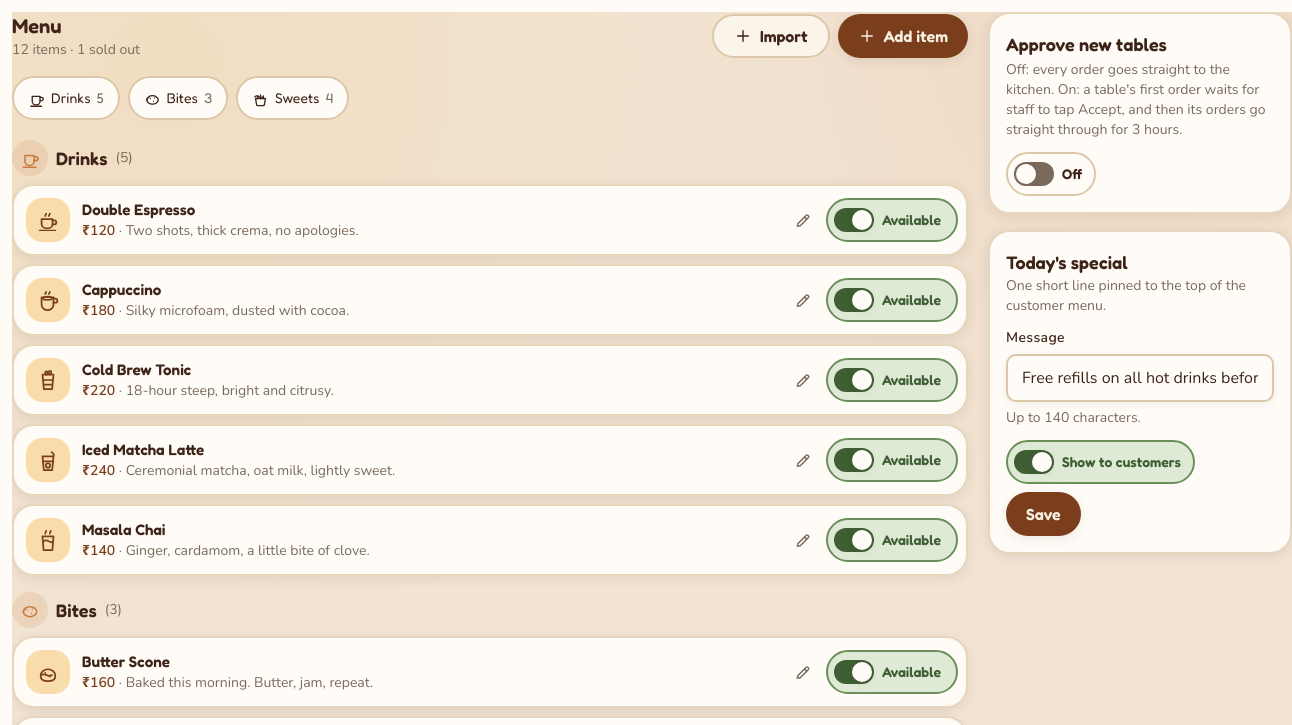
Scenario: owner menu page › marks an item sold out with one tap on its switch
The image size is (1292, 725).
Step 1. Click the switch named "Available : Masala Chai" → (892, 540), box x1=826 y1=518 x2=958 y2=562
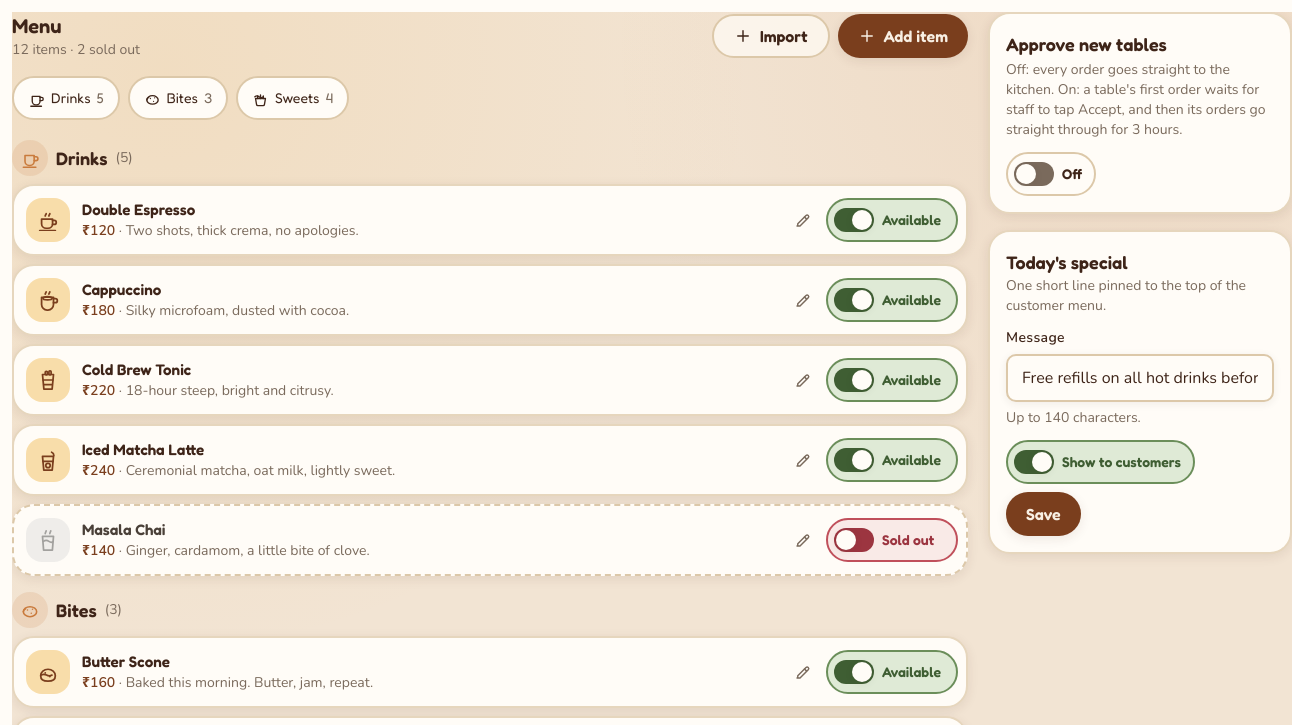
Check: the text "12 items · 2 sold out" is shown, box x1=12 y1=40 x2=140 y2=60
